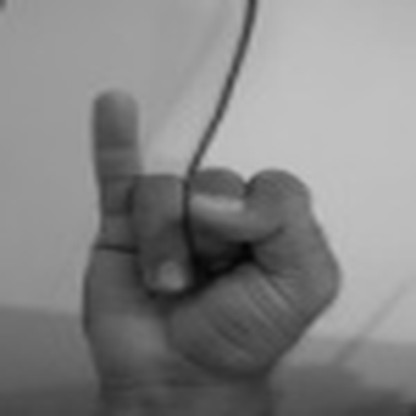i: (77, 87, 345, 395)
